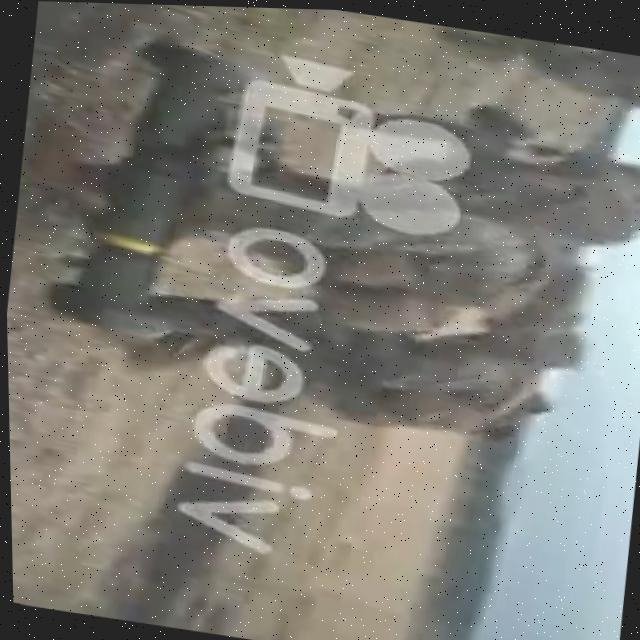rocket: (32, 19, 248, 349)
